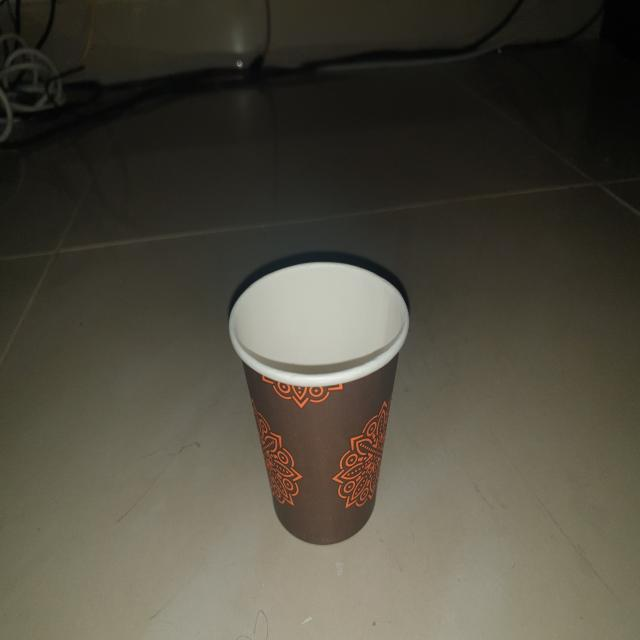cups: (222, 248, 414, 553)
